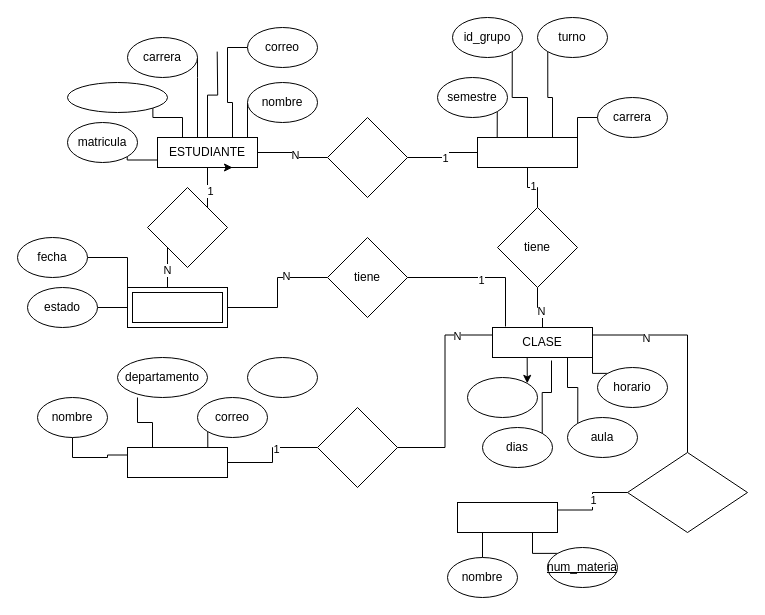
The diagram is 765 pixels wide and 615 high, and some of its shapes have lost their labels. The shapes that lost their labels are listed below. From the top down, each one's centre as x and y in pixels, then its label:
At point (117, 97): "num_estudiante".
At point (367, 157): "pertenece".
At point (527, 152): "GRUPO".
At point (187, 227): "marca".
At point (177, 307): "ASISTENCIA".
At point (282, 377): "num_profe".
At point (502, 397): "num_clase".
At point (177, 462): "PROFESOR".
At point (357, 447): "imparte".
At point (687, 492): "corresponde a ..".
At point (507, 517): "MATERIA".
